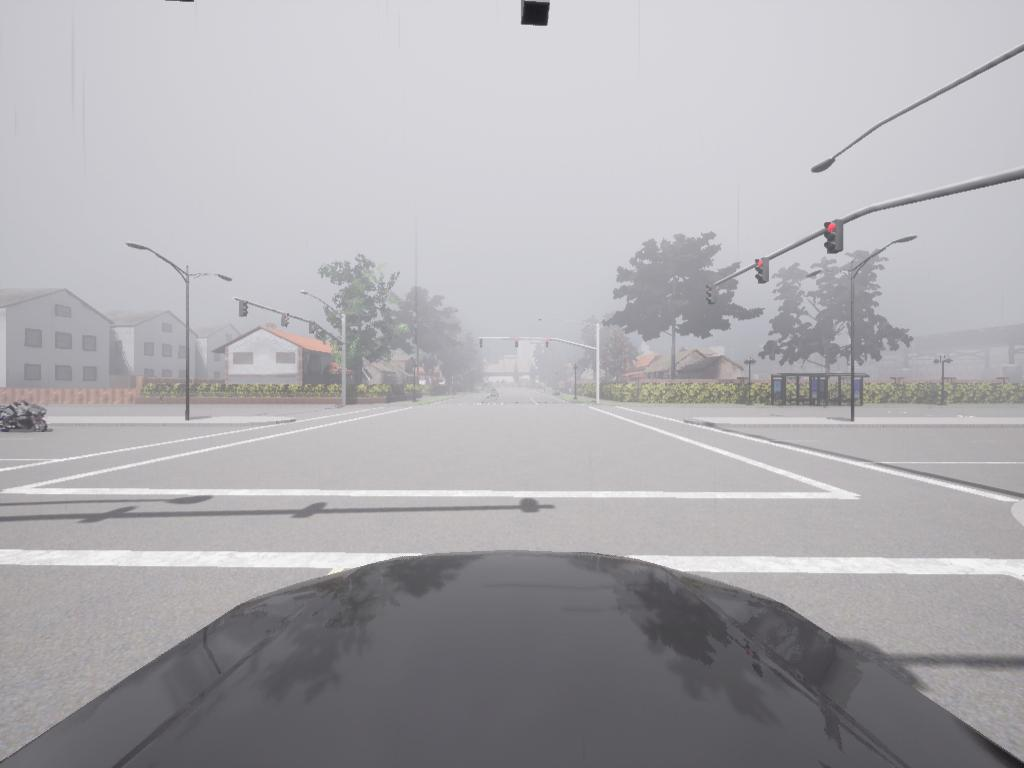traffic_light: (523, 3, 552, 28), (825, 222, 842, 255), (756, 260, 770, 285), (706, 286, 720, 306), (239, 298, 249, 321), (281, 311, 291, 330), (309, 319, 319, 336), (515, 339, 521, 352), (481, 339, 486, 351), (546, 339, 551, 351)
